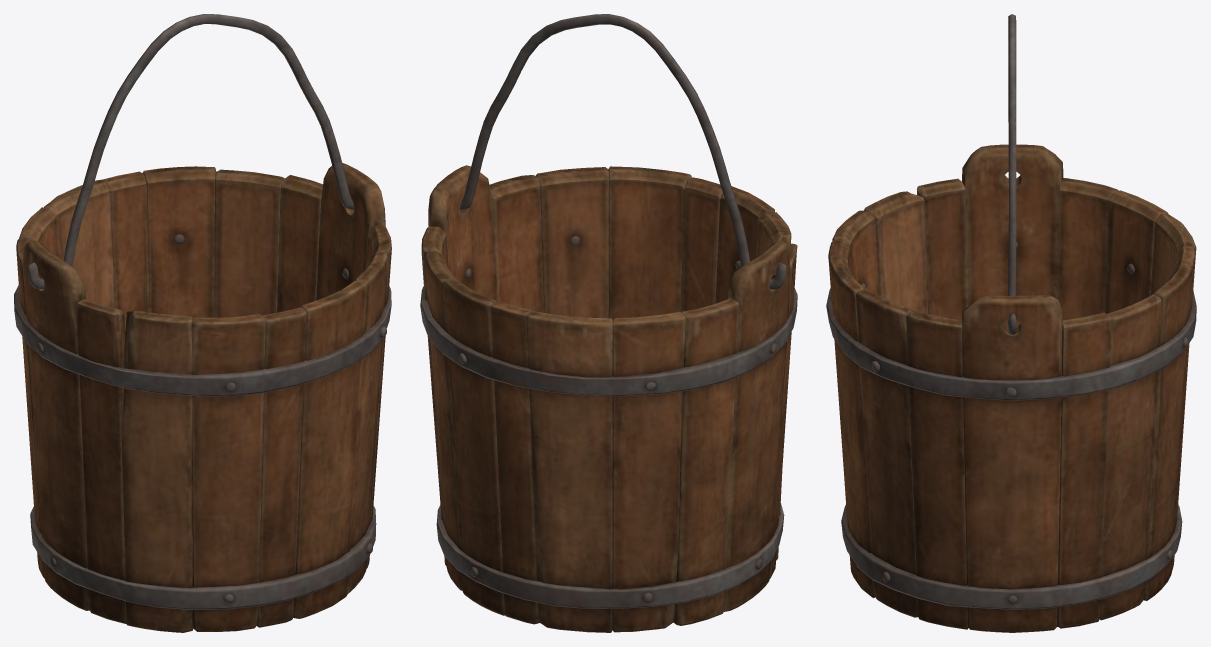
Rendered from ph_bucket.glb.
3 renders of one model, left to right at view 1: azimuth 30°, elevation 25°; view 2: azimuth 150°, elevation 25°; view 3: azimuth 270°, elevation 25°, orthographic.
Parts seen in each view (by area): view 1: wooden_bucket_01, wooden_bucket_01_handle; view 2: wooden_bucket_01, wooden_bucket_01_handle; view 3: wooden_bucket_01, wooden_bucket_01_handle.
Boxes of the visible parts, x1,y1,x2,y2 form: wooden_bucket_01: (14, 163, 391, 632); wooden_bucket_01_handle: (27, 14, 354, 289); wooden_bucket_01: (420, 165, 797, 632); wooden_bucket_01_handle: (437, 14, 786, 289); wooden_bucket_01: (826, 144, 1196, 632); wooden_bucket_01_handle: (1008, 14, 1016, 335).
Size of the model in its own units: 0.367 by 0.5499 by 0.3422.
Materials: 1 (1 with a texture image).
